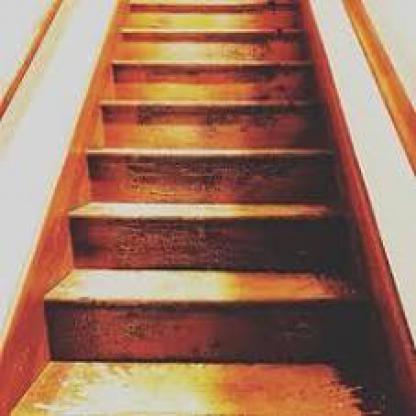stair_up: (33, 152, 378, 326)
